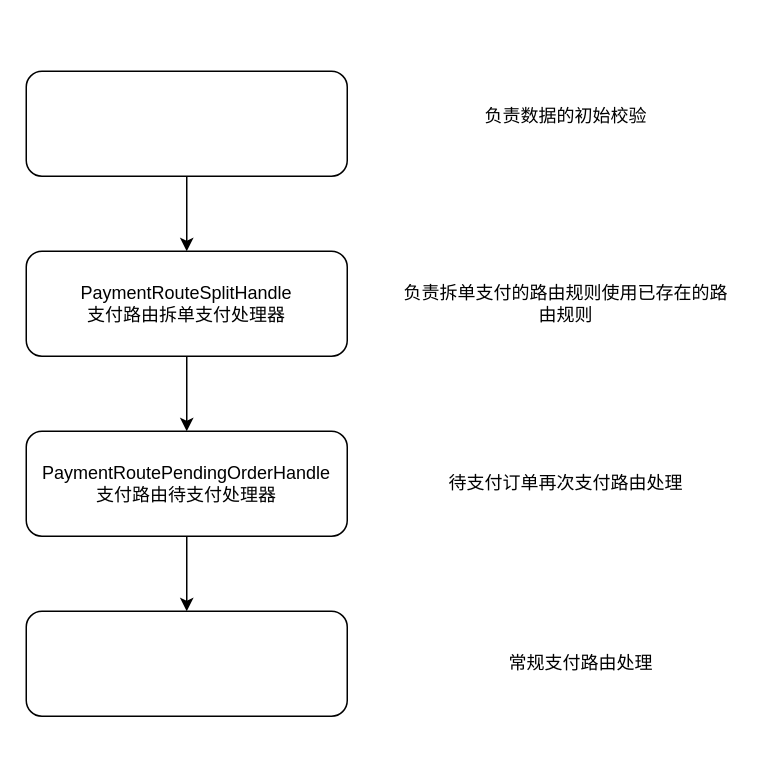
Some shapes in this 773 by 779 pixel diagram are drawn without their labels. The centre of each missing label's shape, as x and y in pixels:
PaymentRouteCheckHandle 支付路由校验处理器: (x=186, y=123)
PaymentRouteHandle 支付路由处理器: (x=186, y=663)
